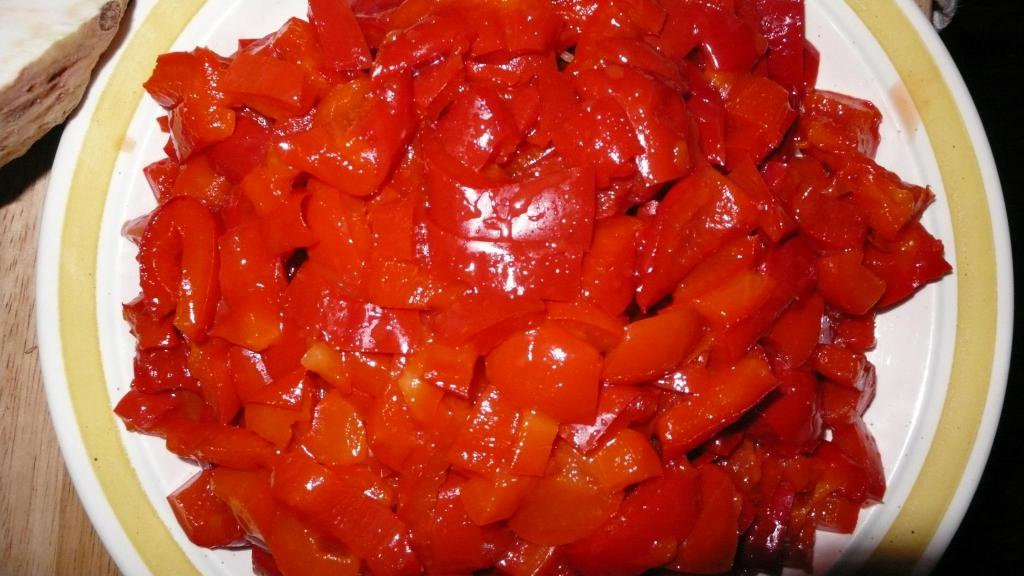Tomato: (112, 0, 953, 575)
